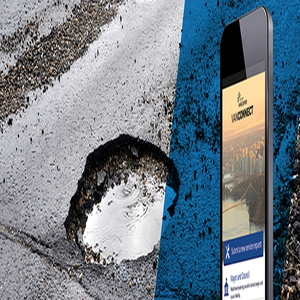pothole: (66, 133, 176, 269)
